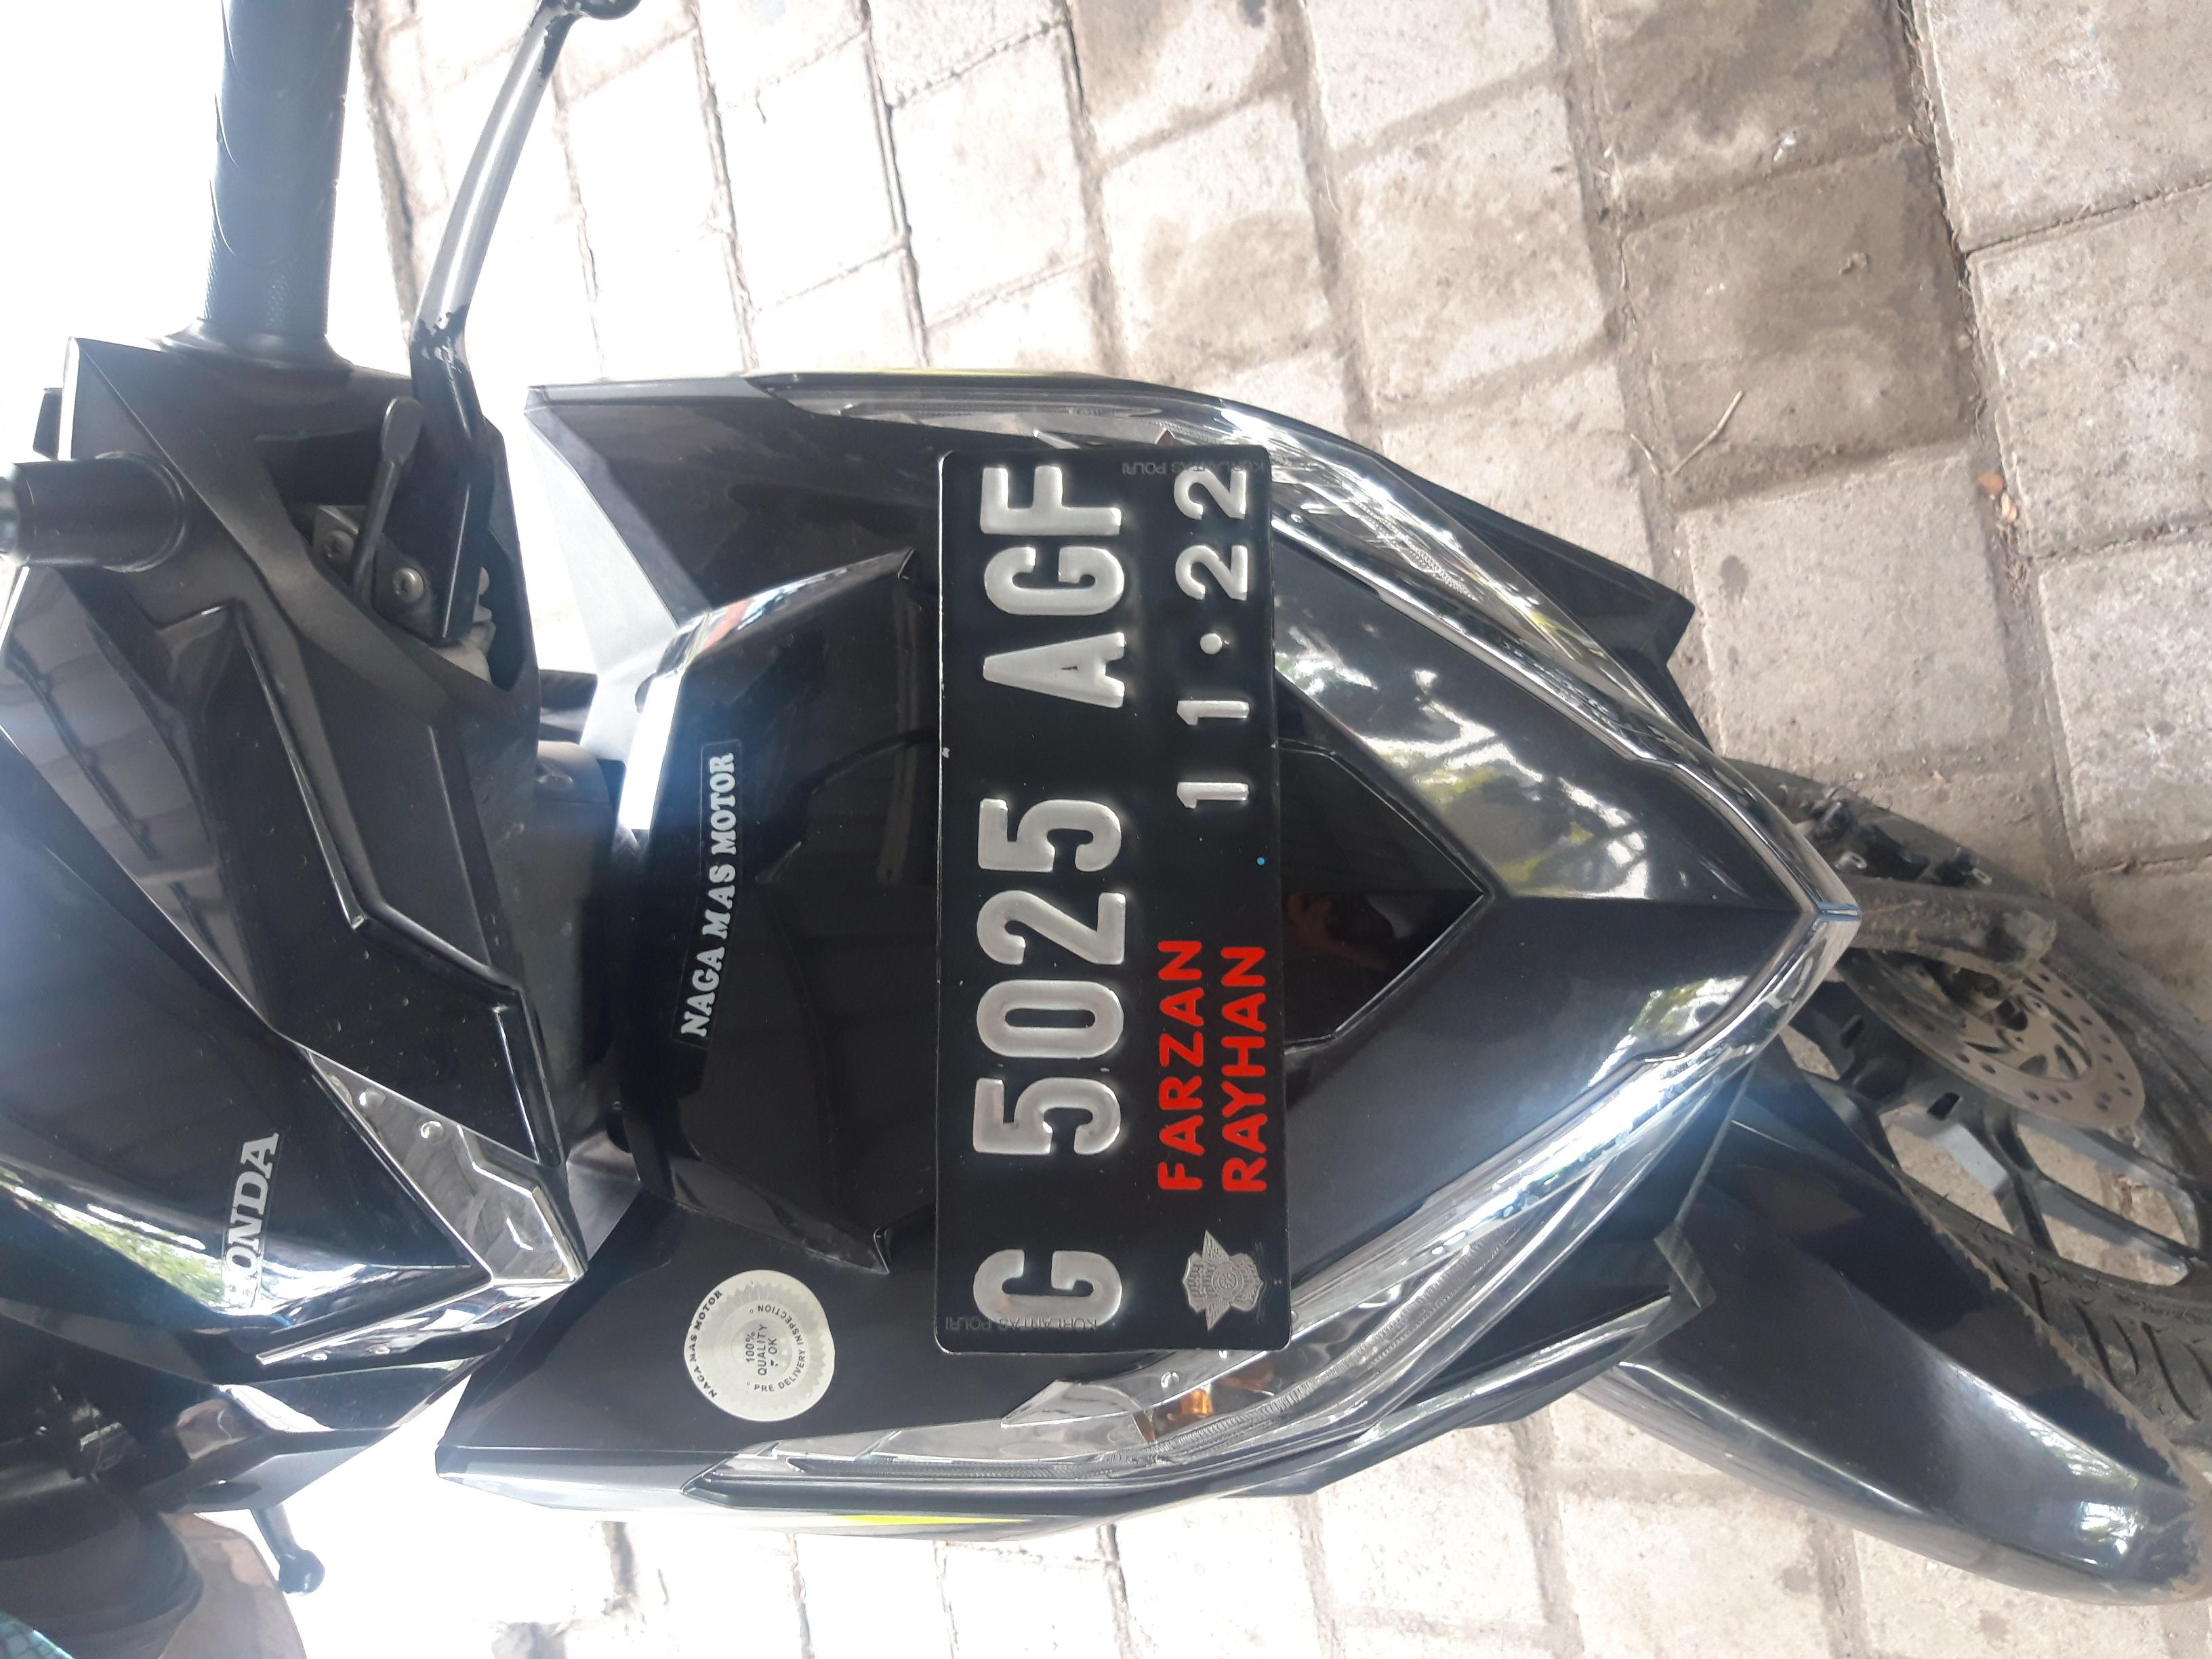plat: (409, 701, 1618, 969)
